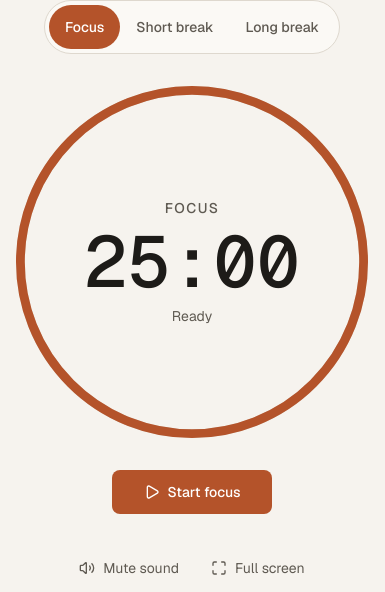
Test: Timer › lets keyboard users change session type with radio semantics and shows that type's duration
Click the radio button labelled "Short break" at (175, 27), box [120,5,230,49]
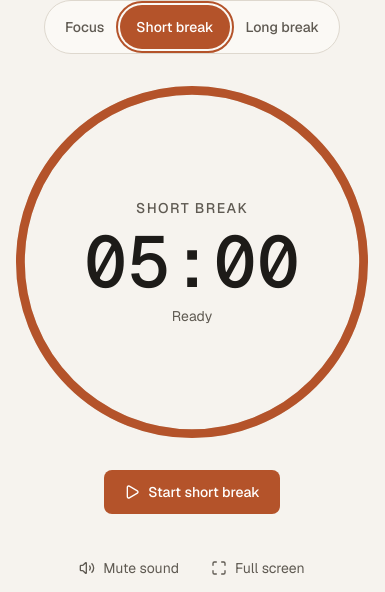
Result: the text with test id "clock" reads "05:00" at [84,215,300,308]
